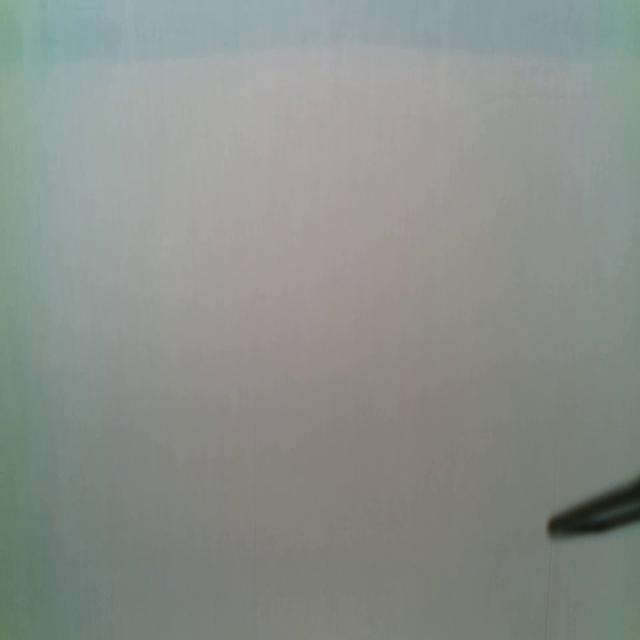color bleeding: (0, 0, 640, 76)
